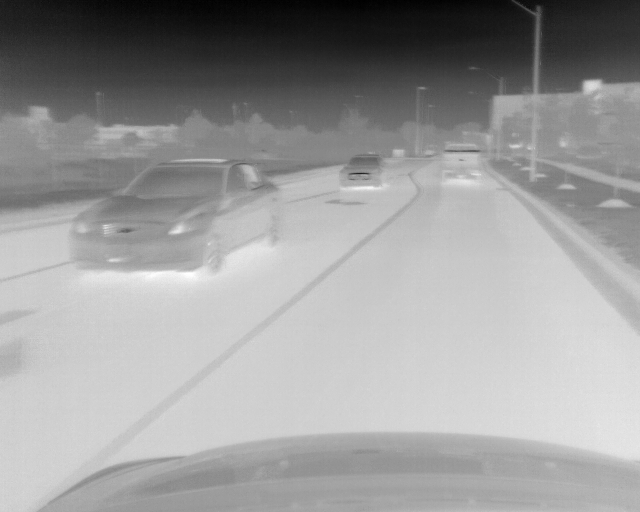car: (65, 156, 281, 277), (338, 152, 390, 202), (440, 142, 482, 185)
